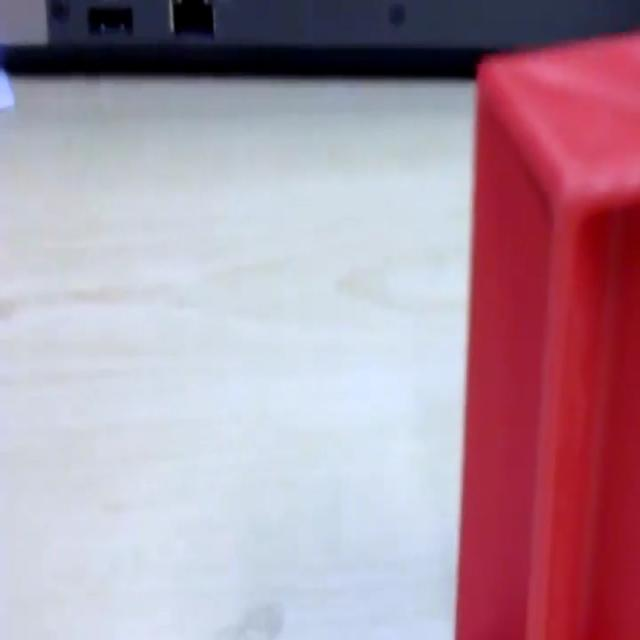red_block: (453, 28, 639, 636)
